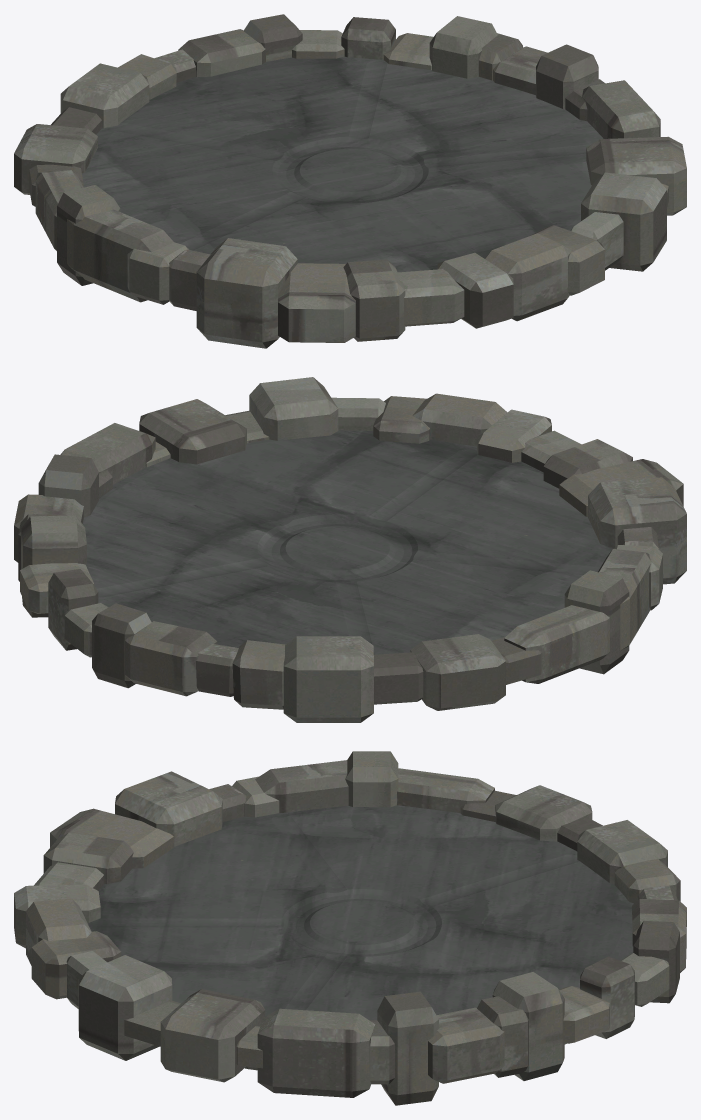
The model's file is summoning_circle.glb.
3 views of the same model, one above another, from view 1: azimuth 30°, elevation 25°; view 2: azimuth 150°, elevation 25°; view 3: azimuth 270°, elevation 25° (orthographic). The views are drawn at different scales.
Parts seen in each view (by area): view 1: summoning_circle.smd; view 2: summoning_circle.smd; view 3: summoning_circle.smd.
Part boxes in pixels (bbox=[...]): summoning_circle.smd: bbox=[14, 14, 686, 348]; summoning_circle.smd: bbox=[14, 377, 686, 722]; summoning_circle.smd: bbox=[14, 751, 686, 1105].
Bounding box in the file's own units: 3.8 × 0.5994 × 3.88.
1 material, 1 textured.
